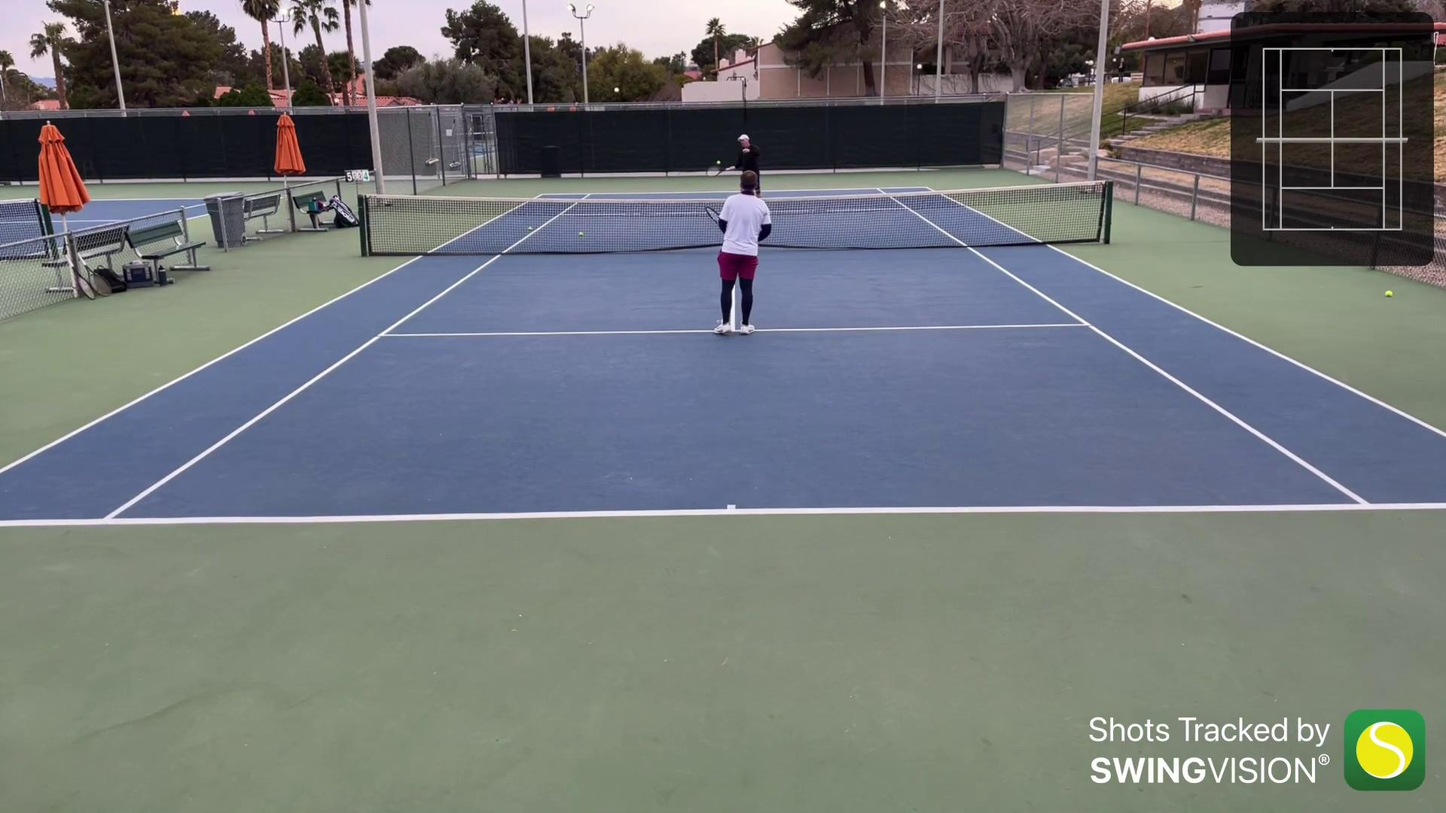ball: (715, 158, 721, 167), (577, 231, 584, 238), (527, 225, 534, 231)
